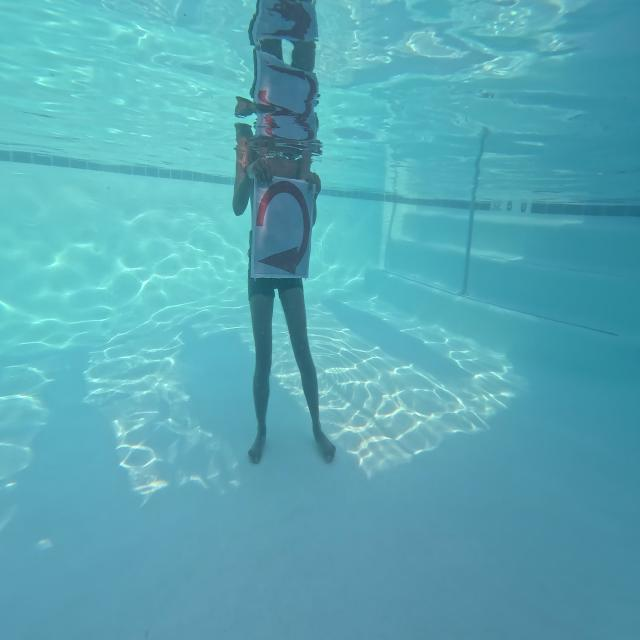red_side: (255, 174, 320, 294)
